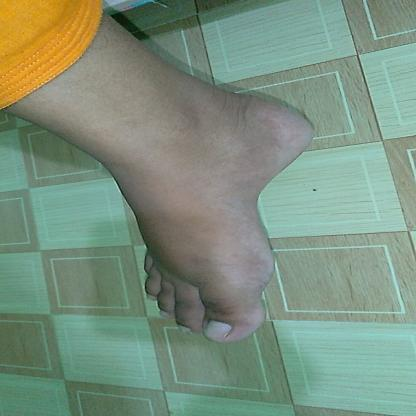leg: (5, 3, 322, 349)
